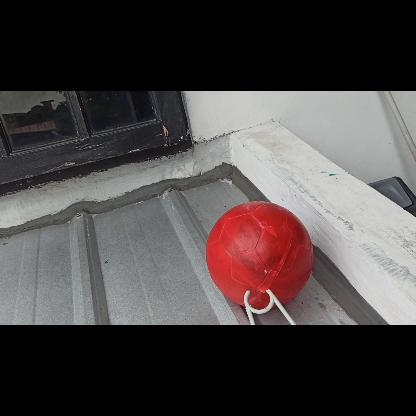red_ball: (206, 201, 312, 308)
